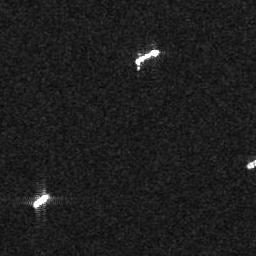ship: (135, 49, 160, 66), (31, 192, 51, 209)
